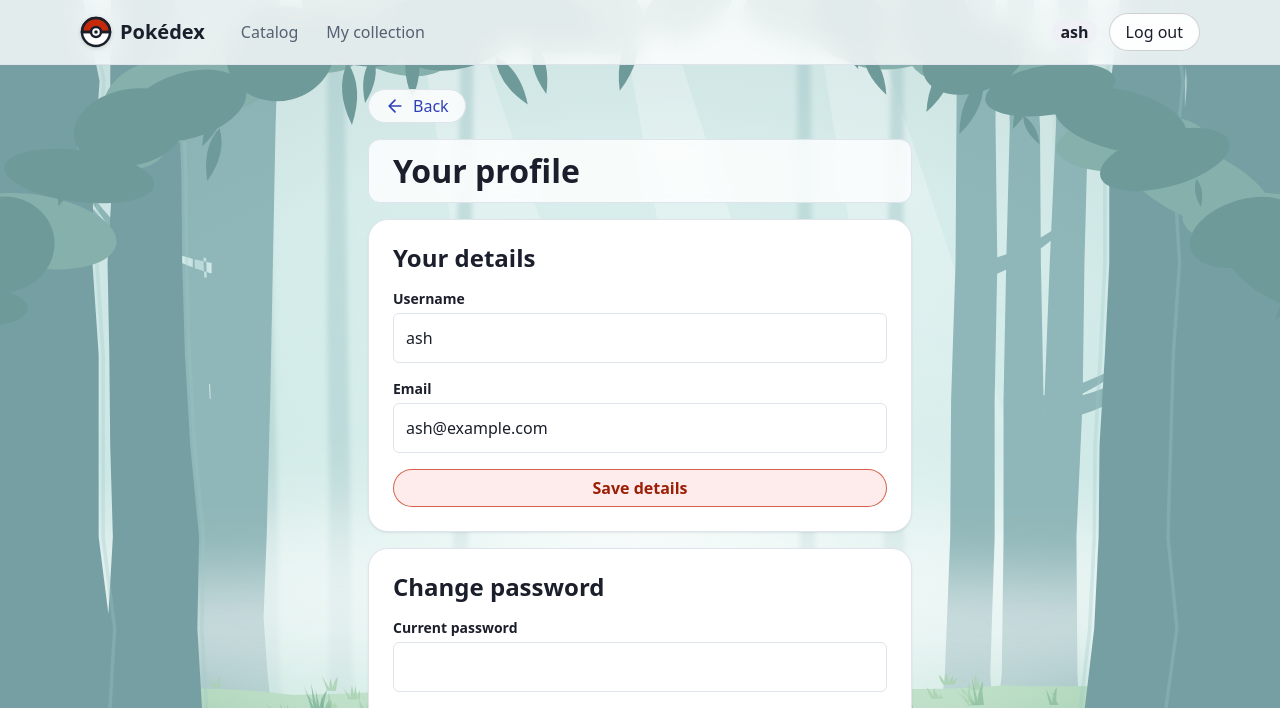
Test: ProfilePage › your details › renames the trainer: the returned token becomes the session and the header shows the new name
The image size is (1280, 708).
Replace the text in the field labelled "Username" with "misty". click: coordinates (640, 338)
box: [393,313,887,363]
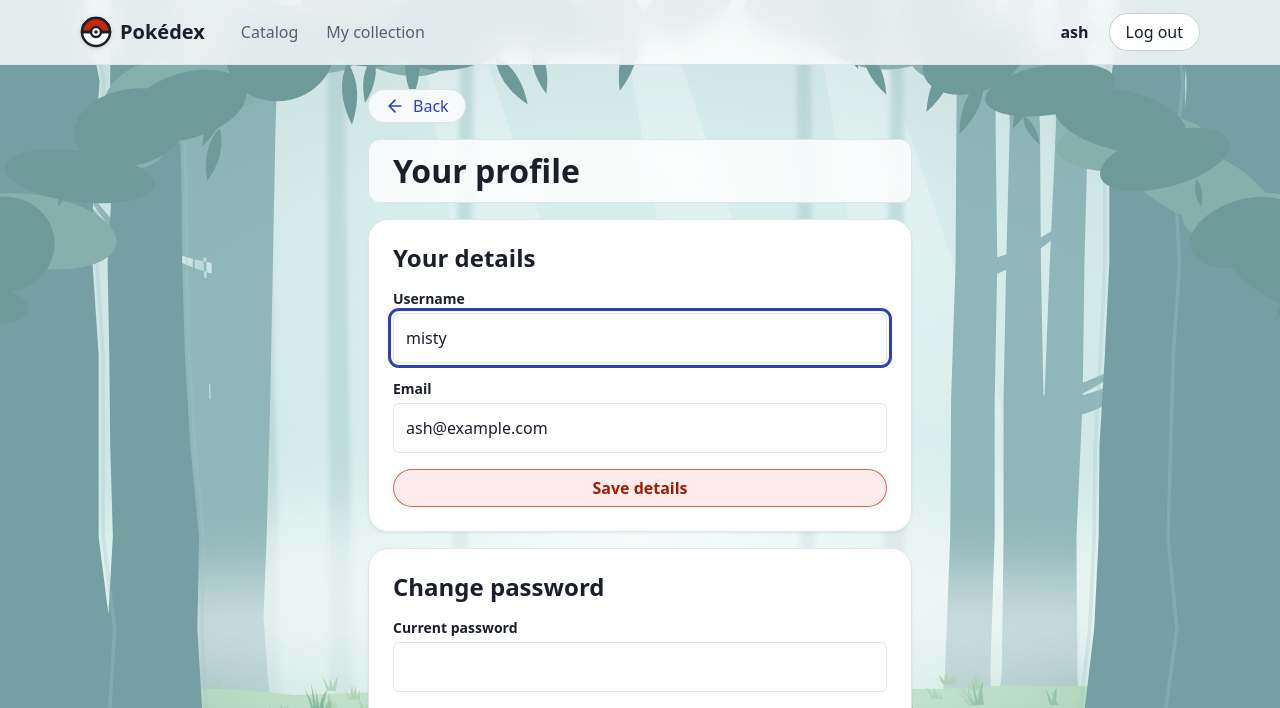
Click the button "Save details". click: coordinates (640, 488)
box: [393,469,887,507]
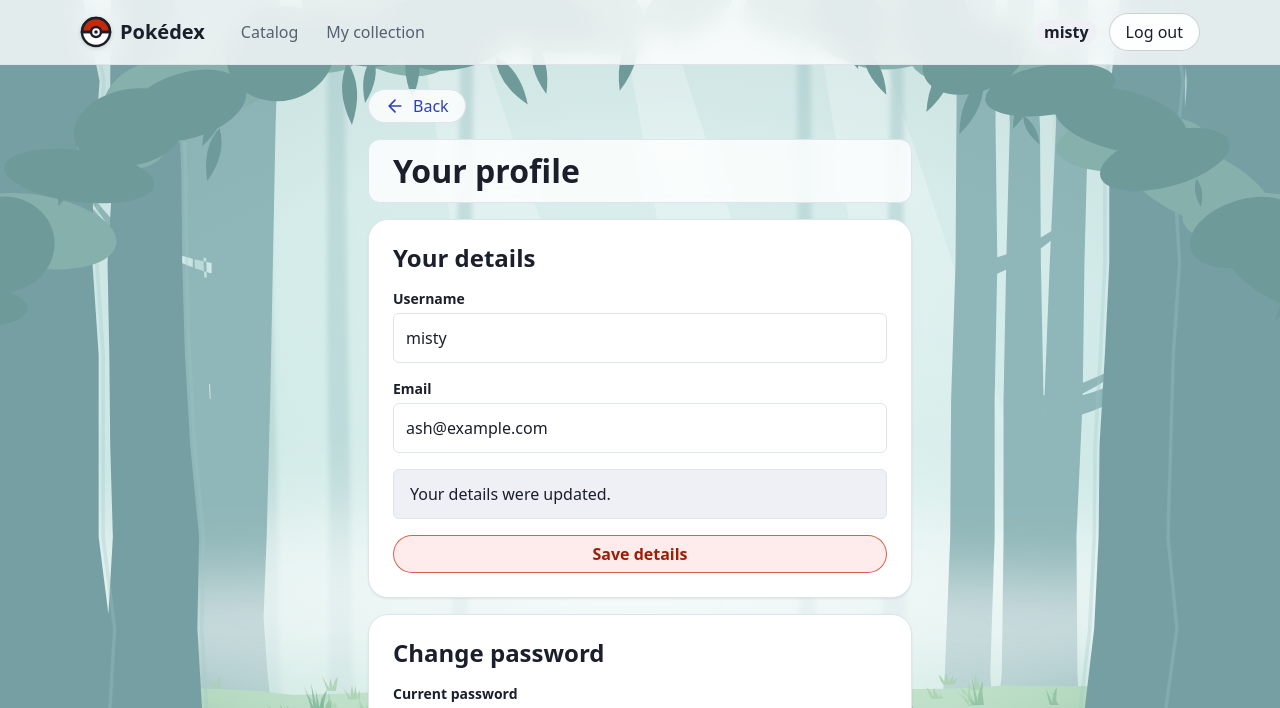
Result: the message "Your details were updated." is not empty at [393,469,887,519]
Result: the message reads "Your details were updated." at [410,483,611,505]
